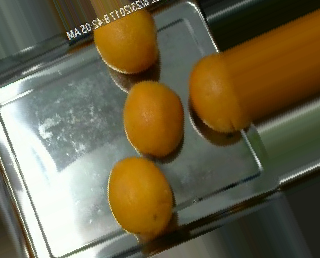Orange: (108, 156, 173, 236), (121, 78, 184, 156)
